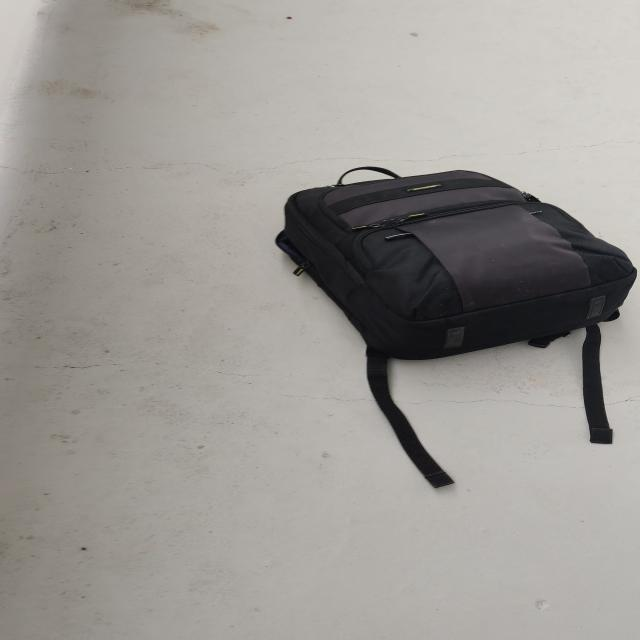backpack: (260, 162, 640, 370)
